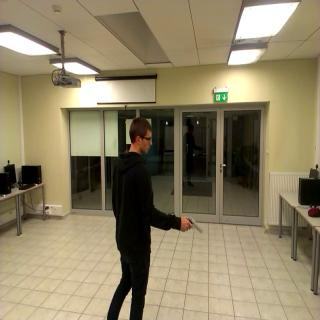gun: (176, 211, 204, 235)
